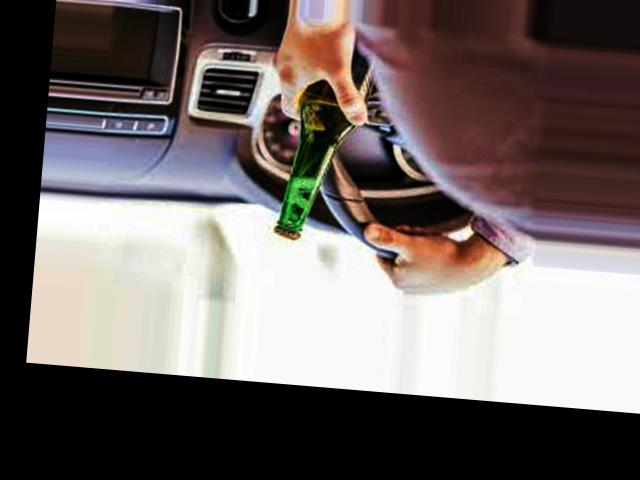beer: (271, 23, 381, 246)
